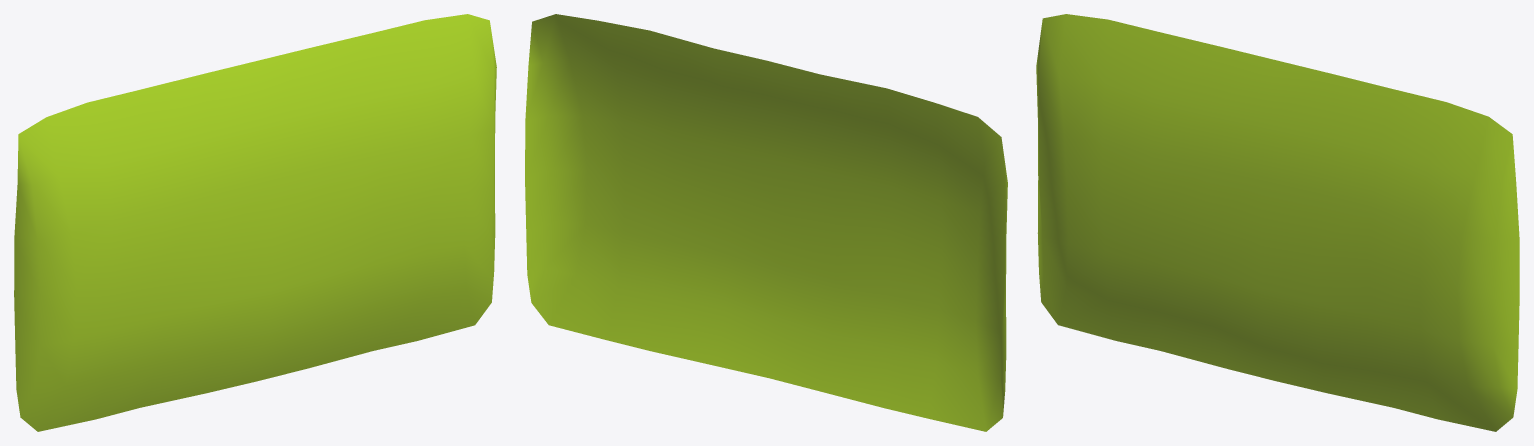
The model's file is bigScreenGlassNoTilt.fbx.
3 renders of one model, left to right at view 1: azimuth 30°, elevation 25°; view 2: azimuth 150°, elevation 25°; view 3: azimuth 330°, elevation 25°, orthographic.
Visible parts, largest first — view 1: screenGlassNoTilt; view 2: screenGlassNoTilt; view 3: screenGlassNoTilt.
Part boxes in pixels (x1=…): screenGlassNoTilt: x1=14, y1=14, x2=496, y2=431; screenGlassNoTilt: x1=525, y1=14, x2=1007, y2=431; screenGlassNoTilt: x1=1036, y1=14, x2=1519, y2=431.
Size of the model in its own units: 215 by 136 by 13.64.
